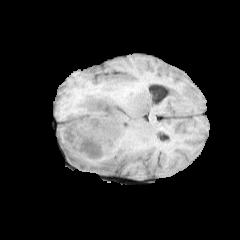glioma: (57, 78, 151, 173)
